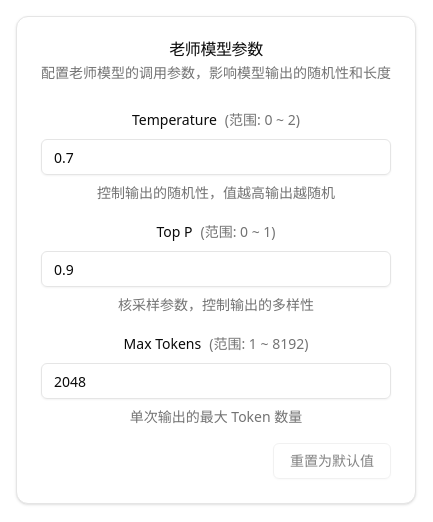
Scenario: TeacherModelParamsForm › 输入验证 › 应该在 temperature 超出范围时显示错误
Replace the text in the number field with test id "temperature-input" with "3.0" at (216, 157), box x1=41 y1=139 x2=391 y2=175
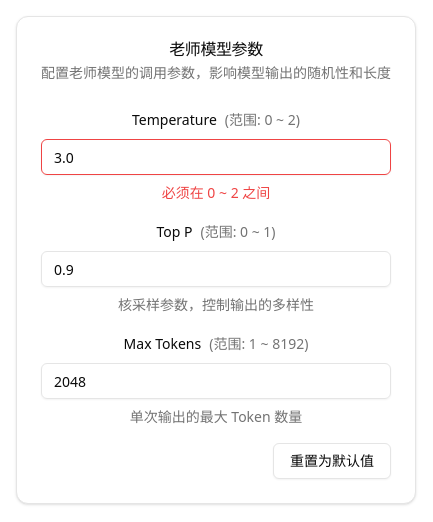
Check: the text "必须在 0 ~ 2 之间" is shown, box x1=162 y1=183 x2=270 y2=202
